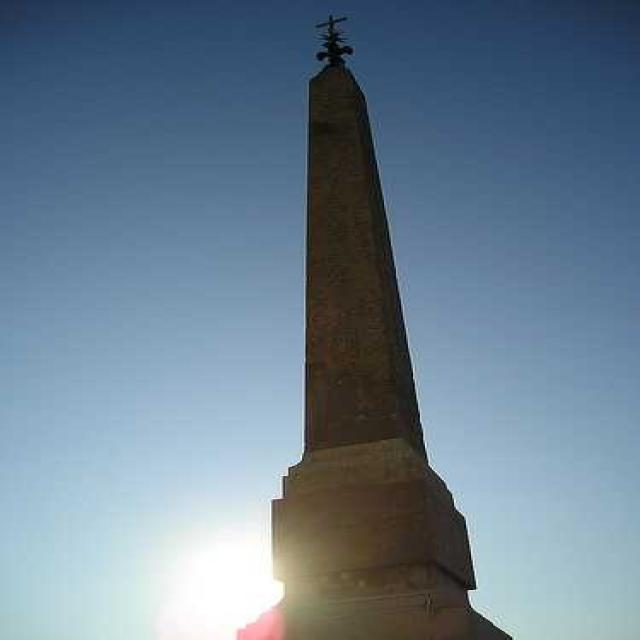missile: (242, 1, 524, 640)
